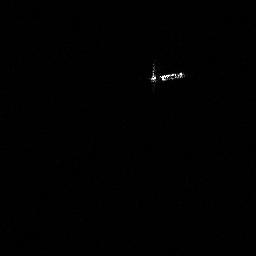ship: (147, 63, 186, 84)
